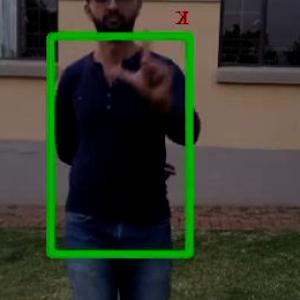land_hand: (114, 20, 180, 110)
